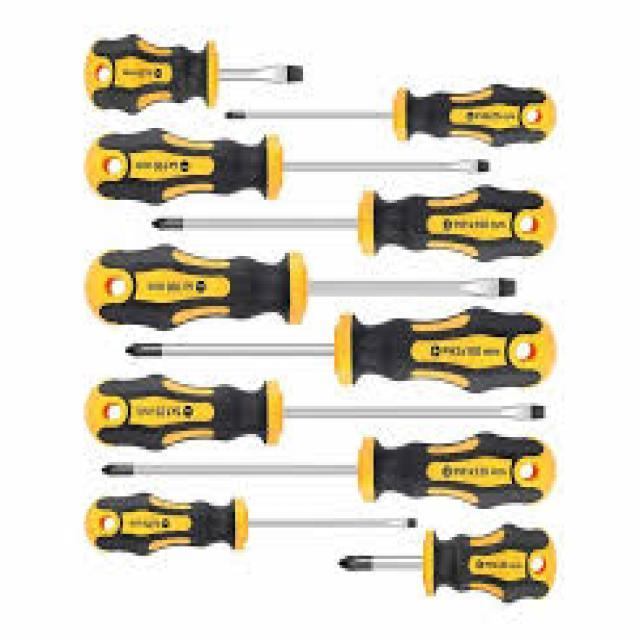screwdriver: (99, 428, 567, 521), (122, 301, 556, 401), (78, 367, 559, 457), (82, 240, 516, 334), (136, 179, 564, 264), (80, 128, 496, 212), (216, 74, 570, 152), (74, 491, 422, 558), (80, 27, 320, 120), (330, 520, 563, 610)
